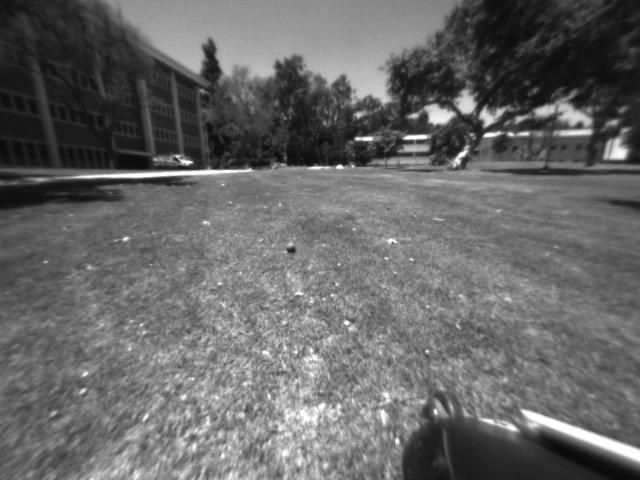dogtoy: (280, 238, 304, 258)
